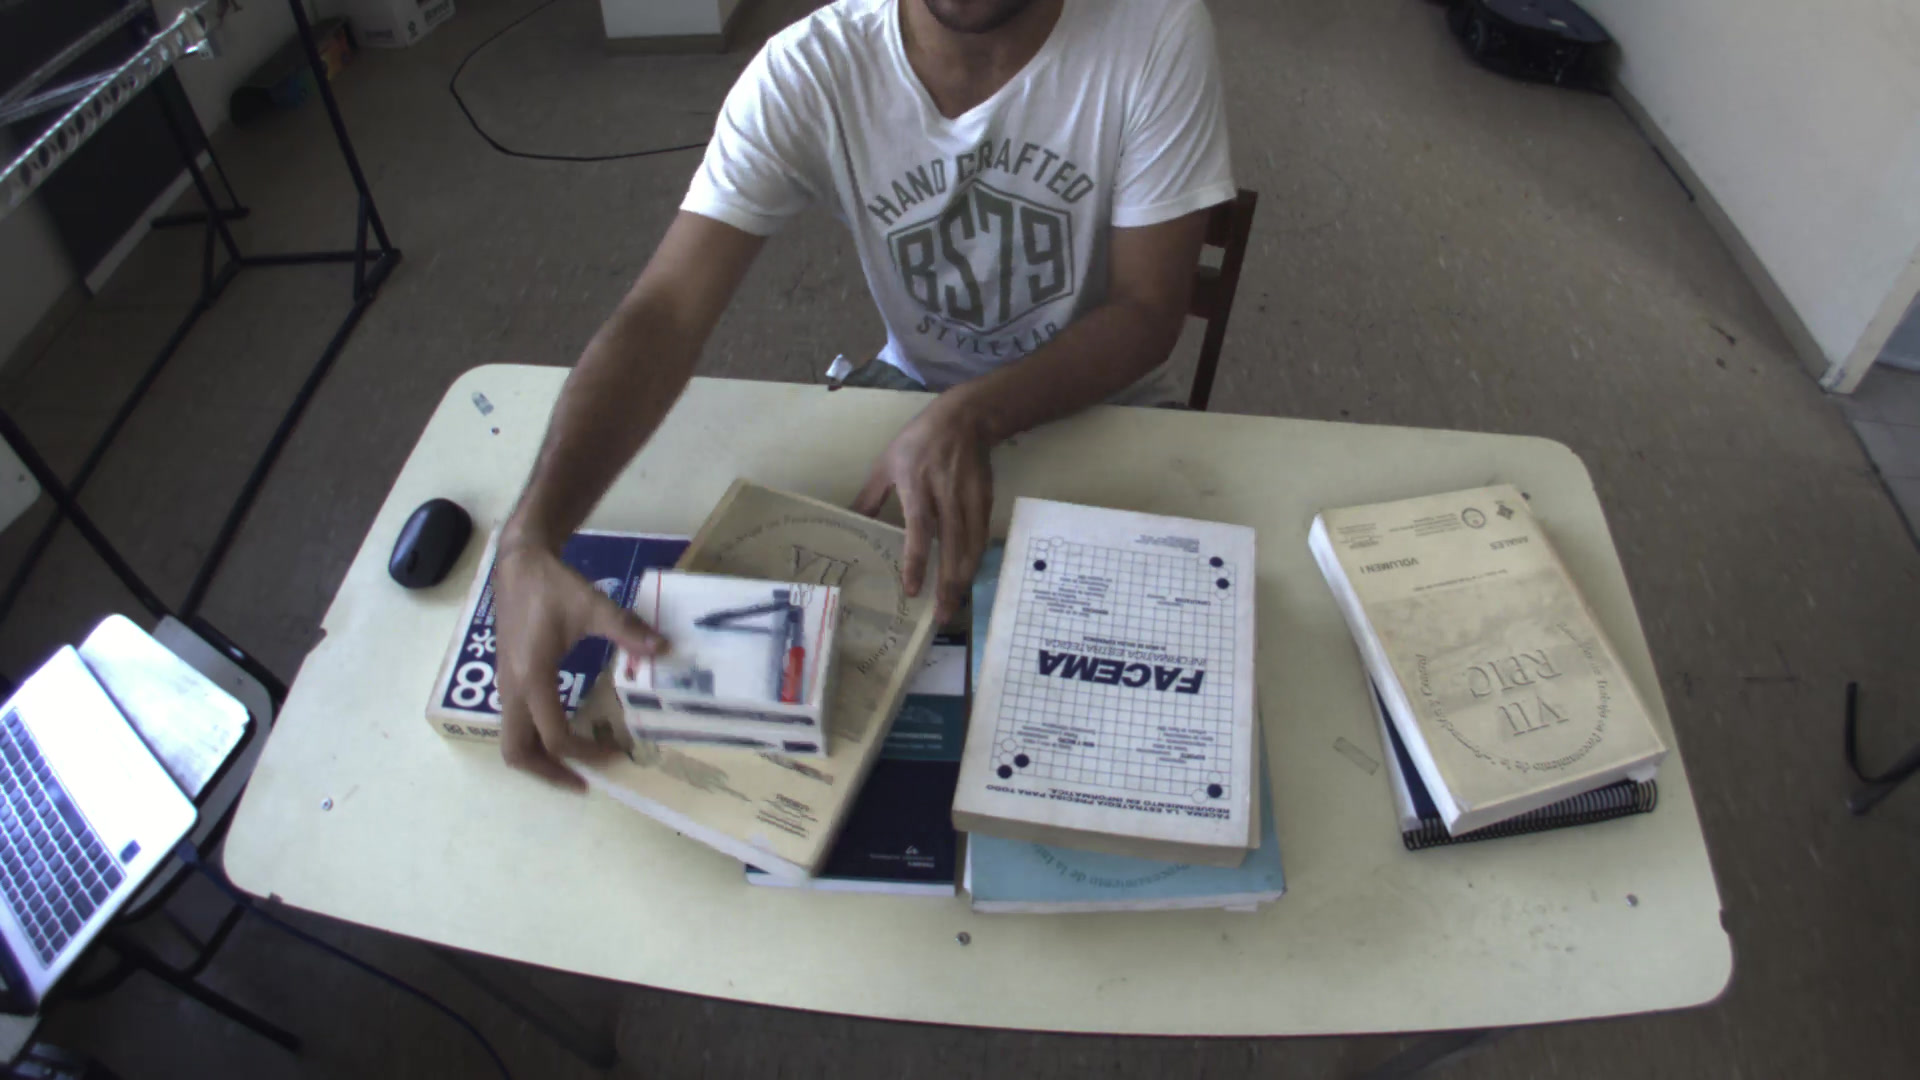hand: (469, 549, 676, 795), (849, 386, 1007, 629)
